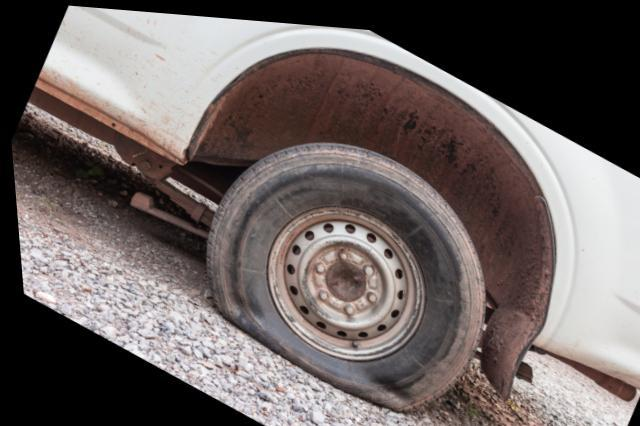tire flat: (203, 134, 481, 406)
